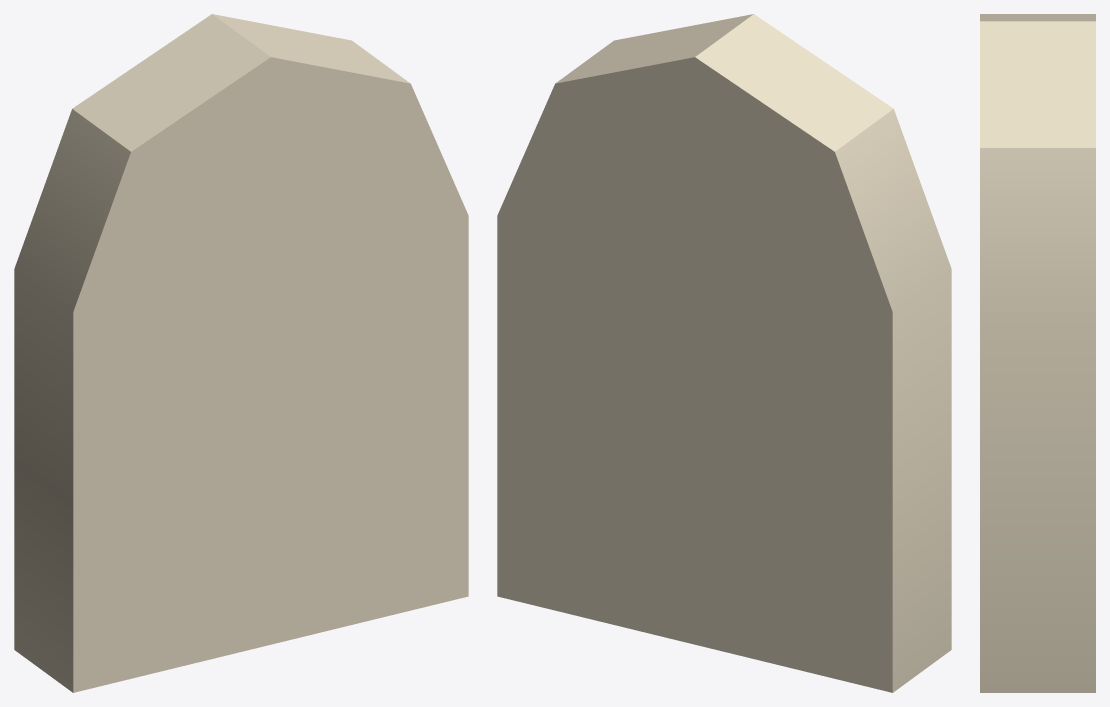
File: nerve_token_tablet_mobile.glb
The picture shows the model from 3 angles, left to right: view 1: azimuth 30°, elevation 25°; view 2: azimuth 150°, elevation 25°; view 3: azimuth 270°, elevation 25°; orthographic projection.
Visible parts, largest first — view 1: nerve_token_tablet_mobile; view 2: nerve_token_tablet_mobile; view 3: nerve_token_tablet_mobile.
Boxes of the visible parts, box(x1,y1,x2,y2) form: nerve_token_tablet_mobile: box(14, 14, 468, 692); nerve_token_tablet_mobile: box(497, 14, 951, 692); nerve_token_tablet_mobile: box(980, 14, 1095, 692).
Bounding box in the file's own units: 0.062 × 0.088 × 0.016.
